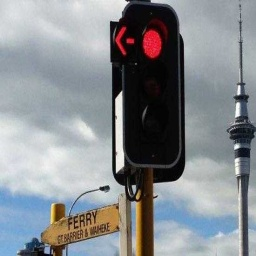traffic light: (110, 1, 183, 168)
